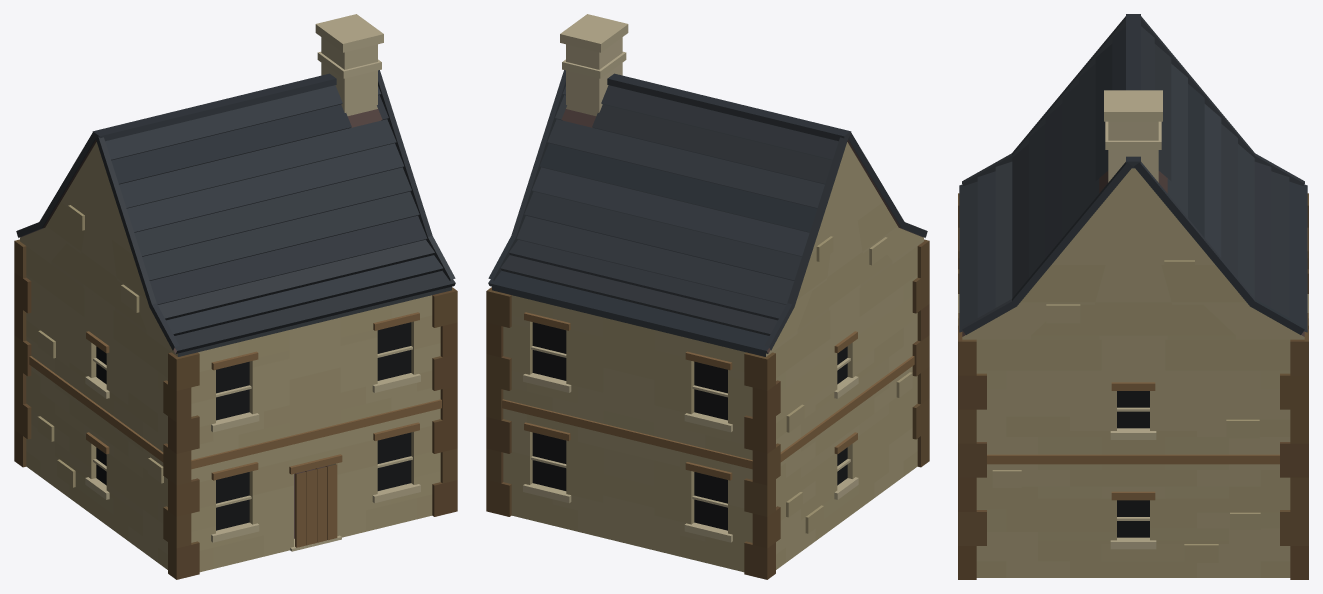
File: stone-farmhouse-billet-2dbbf2.glb
3 renders of one model, left to right at view 1: azimuth 30°, elevation 25°; view 2: azimuth 150°, elevation 25°; view 3: azimuth 270°, elevation 25°, orthographic. The views are drawn at different scales.
Parts seen in each view (by area): view 1: stone-farmhouse-billet, door; view 2: stone-farmhouse-billet; view 3: stone-farmhouse-billet.
Boxes of the visible parts, <box> form: stone-farmhouse-billet: <box>14,14,457,579</box>; door: <box>295,464,337,547</box>; stone-farmhouse-billet: <box>486,14,929,579</box>; stone-farmhouse-billet: <box>958,14,1308,579</box>.
Bounding box in the file's own units: 8 × 11.69 × 8.
